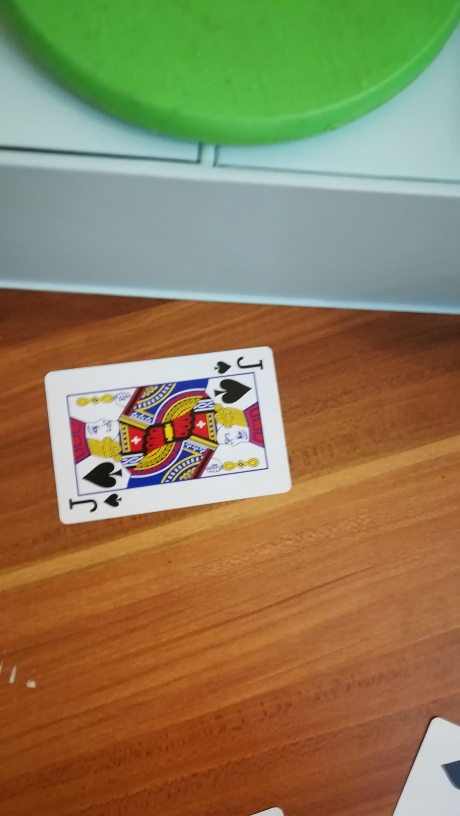ht j: (43, 339, 298, 546)
